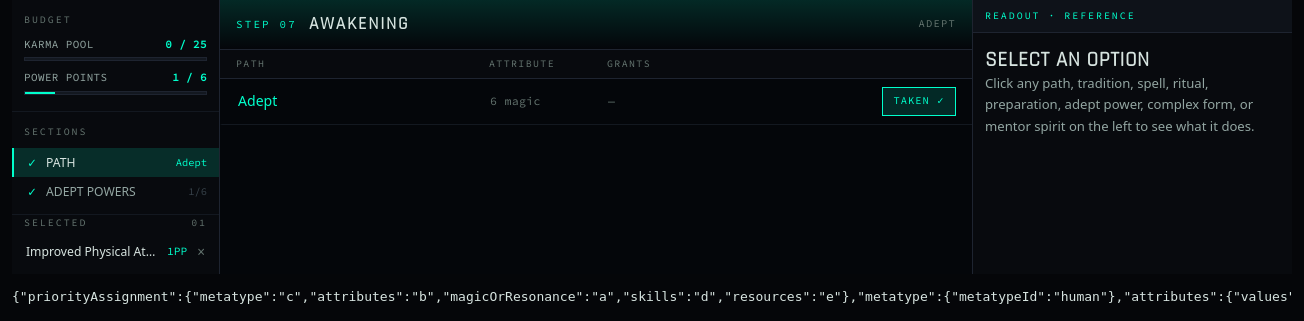
Test case: adept power parameters › flags a taken power whose target is still blank
Click the button "✓ ADEPT POWERS 1/6".
click(116, 191)  # box [12,176,219,206]
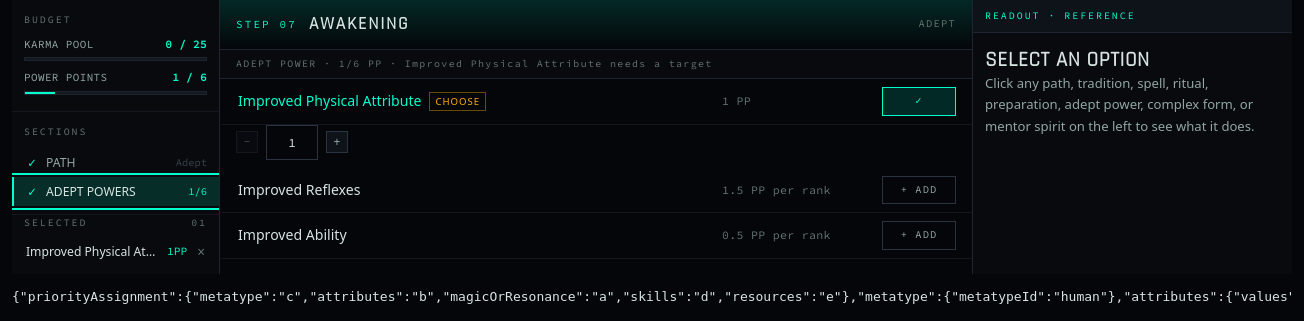
Now the button "Improved Physical Attribute" shows "CHOOSE", box [220,79,972,124]
Now the text "Improved Physical Attribute needs a target" is shown, box [383,57,713,70]
